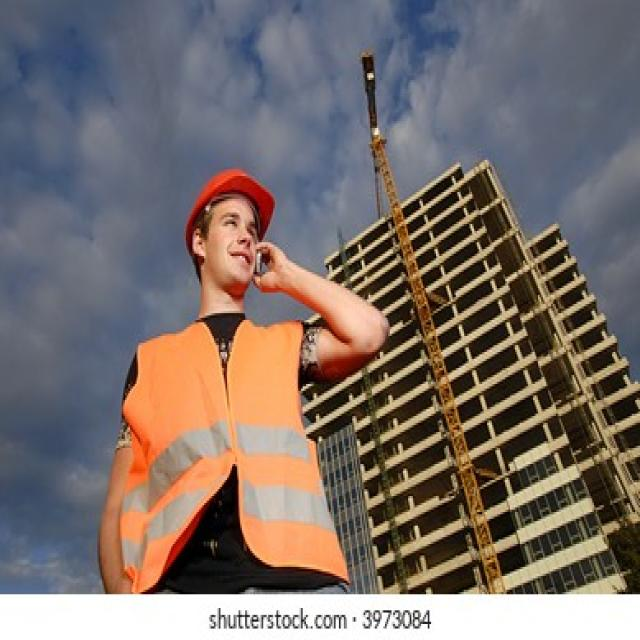helmet: (180, 157, 280, 239)
no-goggles: (196, 208, 276, 243)
vest: (110, 300, 323, 590)
